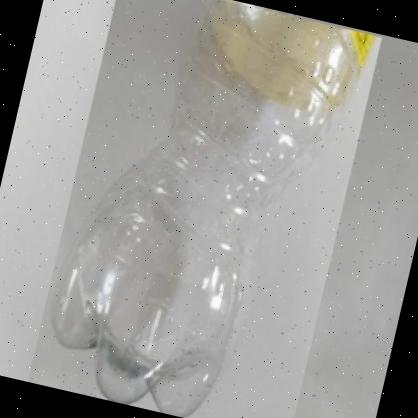bottle: (26, 0, 381, 418)
